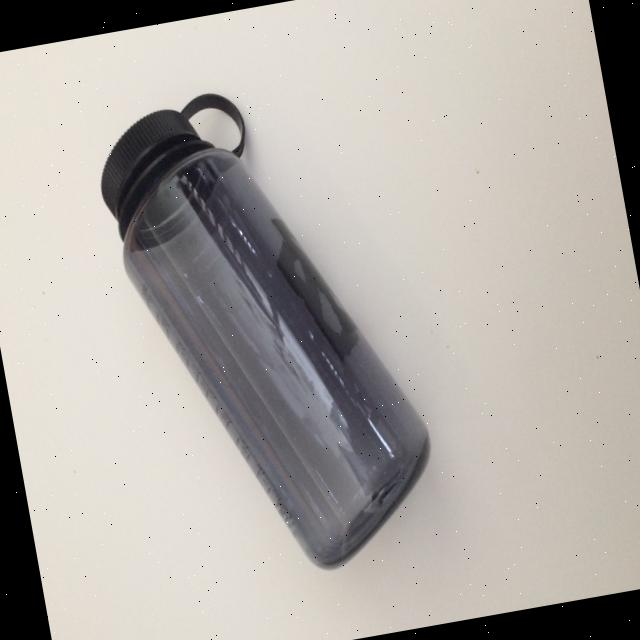plastic: (87, 66, 450, 596)
